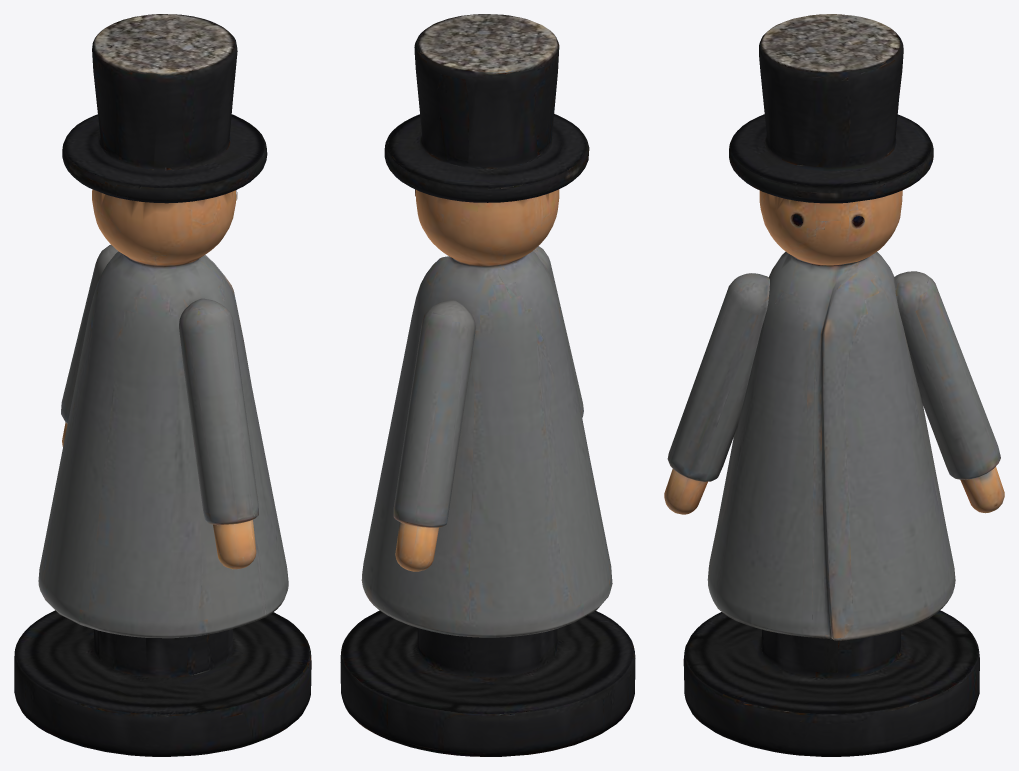
Rendered from person_passenger.glb.
3 renders of one model, left to right at view 1: azimuth 30°, elevation 25°; view 2: azimuth 150°, elevation 25°; view 3: azimuth 270°, elevation 25°, orthographic.
Parts seen in each view (by area): view 1: Model; view 2: Model; view 3: Model.
Boxes of the visible parts, x1,y1,x2,y2 form: Model: (14, 14, 311, 756); Model: (340, 14, 635, 756); Model: (664, 14, 1004, 756).
Bounding box in the file's own units: 0.4097 × 0.9995 × 0.4712.
Materials: 1 (1 with a texture image).
